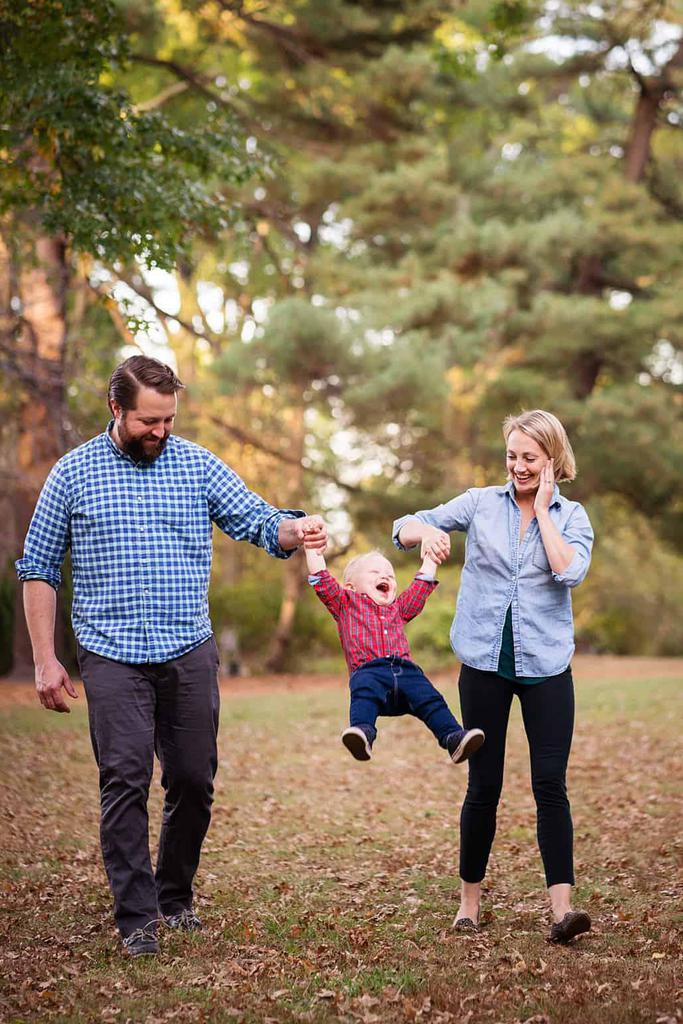child: (297, 534, 487, 769)
